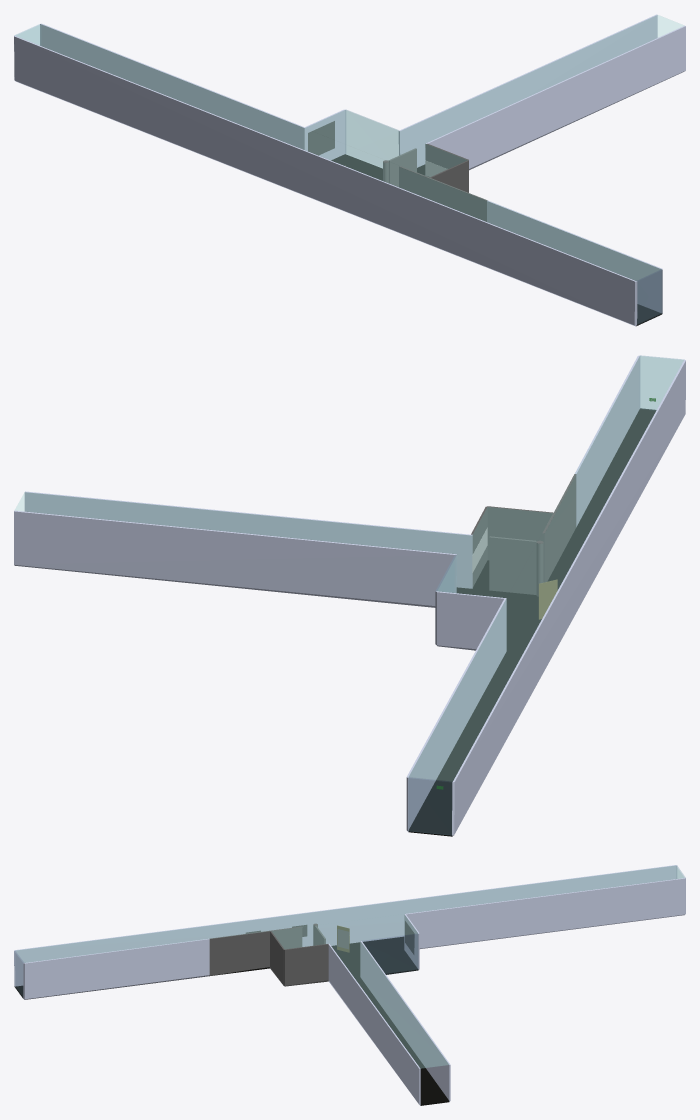
The model's file is inue-southwest-wall.glb.
3 views of the same model, one above another, from view 1: azimuth 30°, elevation 25°; view 2: azimuth 150°, elevation 25°; view 3: azimuth 270°, elevation 25° (orthographic). The views are drawn at different scales.
Parts seen in each view (by area): view 1: plasterboard, ceiling, concretewalls, lobbyglass, northernwall, floor, alumniwall, KNSW, KWEW; view 2: plasterboard, ceiling, floor, concretewalls, KWEW, southernwall, northernwall, KNSW; view 3: plasterboard, ceiling, concretewalls, floor, lobbyglass, KNSW.
Part boxes in pixels (x1,y1,x2,y2): plasterboard: [14, 14, 685, 326]; ceiling: [16, 15, 683, 280]; concretewalls: [425, 143, 487, 221]; lobbyglass: [346, 110, 398, 167]; northernwall: [637, 269, 661, 324]; floor: [331, 154, 662, 326]; alumniwall: [308, 121, 334, 155]; KNSW: [399, 166, 429, 198]; KWEW: [388, 148, 416, 186]; plasterboard: [14, 355, 685, 836]; ceiling: [15, 356, 683, 781]; floor: [408, 408, 656, 836]; concretewalls: [471, 474, 576, 586]; KWEW: [489, 536, 536, 594]; southernwall: [408, 777, 452, 835]; northernwall: [640, 355, 683, 409]; KNSW: [542, 513, 555, 582]; plasterboard: [14, 865, 685, 1105]; ceiling: [16, 865, 684, 1068]; concretewalls: [209, 930, 328, 986]; floor: [14, 936, 449, 1105]; lobbyglass: [362, 934, 418, 974]; KNSW: [271, 926, 302, 949].
Bounding box in the file's own units: 36.03 × 3.09 × 50.17.
